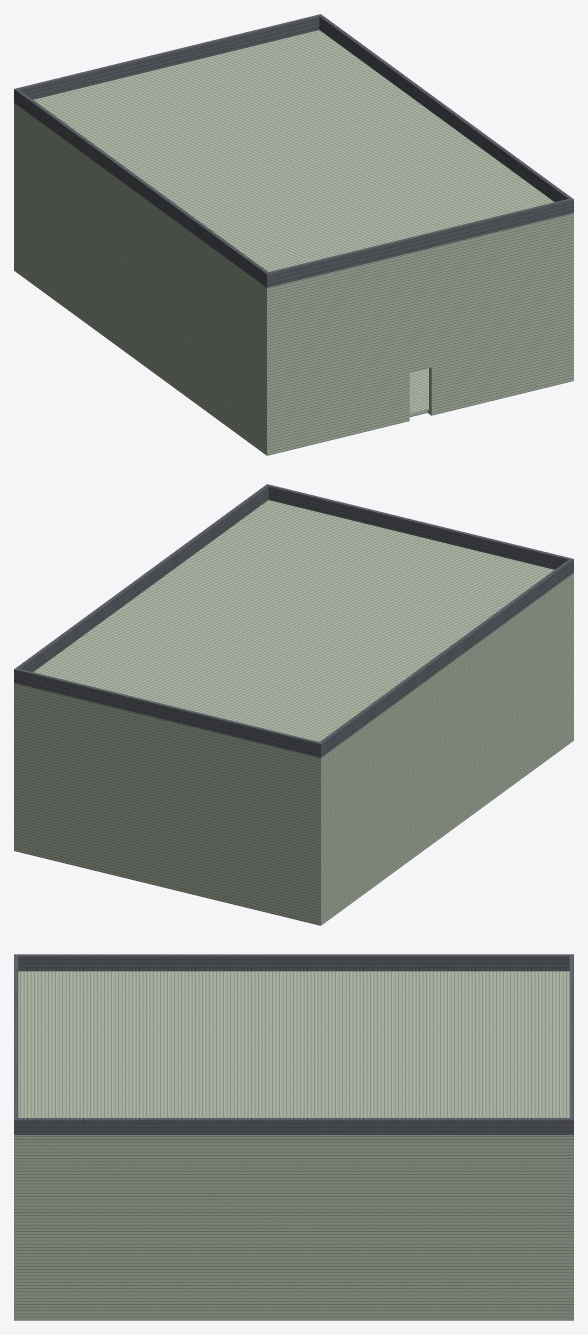
Rendered from town_hall.glb.
3 renders of one model, top to bottom at view 1: azimuth 30°, elevation 25°; view 2: azimuth 150°, elevation 25°; view 3: azimuth 270°, elevation 25°, orthographic. The views are drawn at different scales.
Parts seen in each view (by area): view 1: town_hall-col; view 2: town_hall-col; view 3: town_hall-col.
Part boxes in pixels (x1,y1,x2,y2): town_hall-col: [14, 14, 573, 455]; town_hall-col: [14, 484, 573, 925]; town_hall-col: [14, 954, 573, 1320].
Bounding box in the file's own units: 14 × 7.92 × 20.
2 materials, 2 textured.
